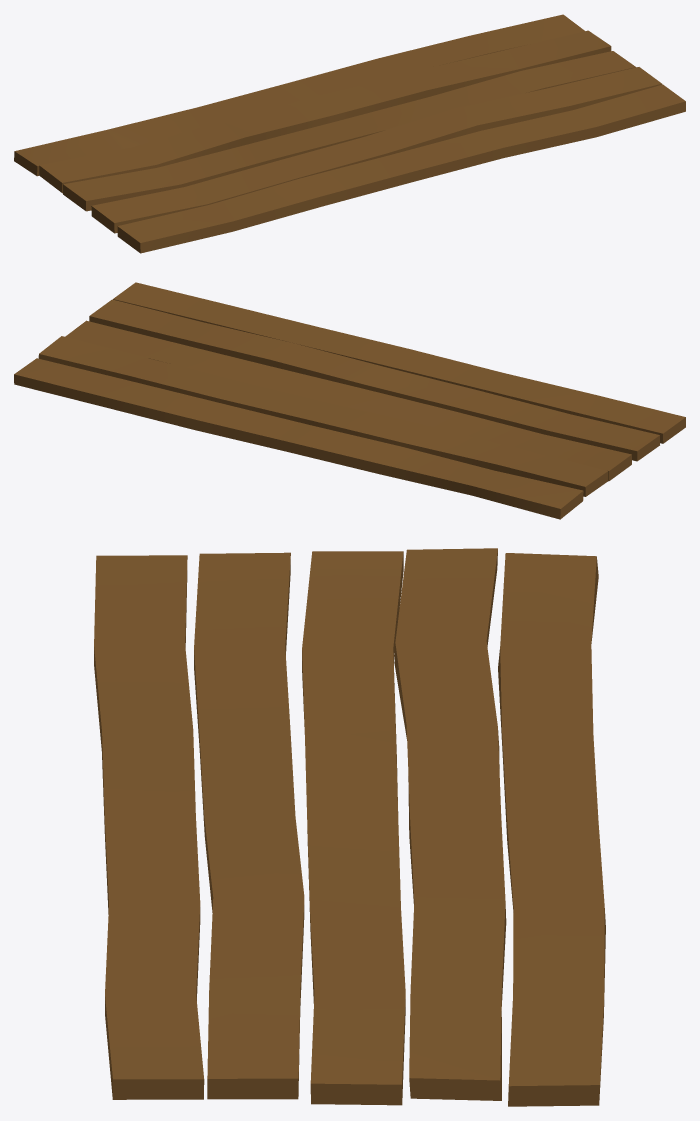
File: board_01_a002.fbx
3 views of the same model, one above another, from view 1: azimuth 30°, elevation 25°; view 2: azimuth 150°, elevation 25°; view 3: azimuth 270°, elevation 25° (orthographic). The views are drawn at different scales.
Visible parts, largest first — view 1: Board_01_a002; view 2: Board_01_a002; view 3: Board_01_a002.
Boxes of the visible parts, x1=… form: Board_01_a002: x1=14, y1=14, x2=685, y2=253; Board_01_a002: x1=14, y1=282, x2=685, y2=519; Board_01_a002: x1=94, y1=548, x2=605, y2=1106.
Bounding box in the file's own units: 47.35 × 19.22 × 1.56.
